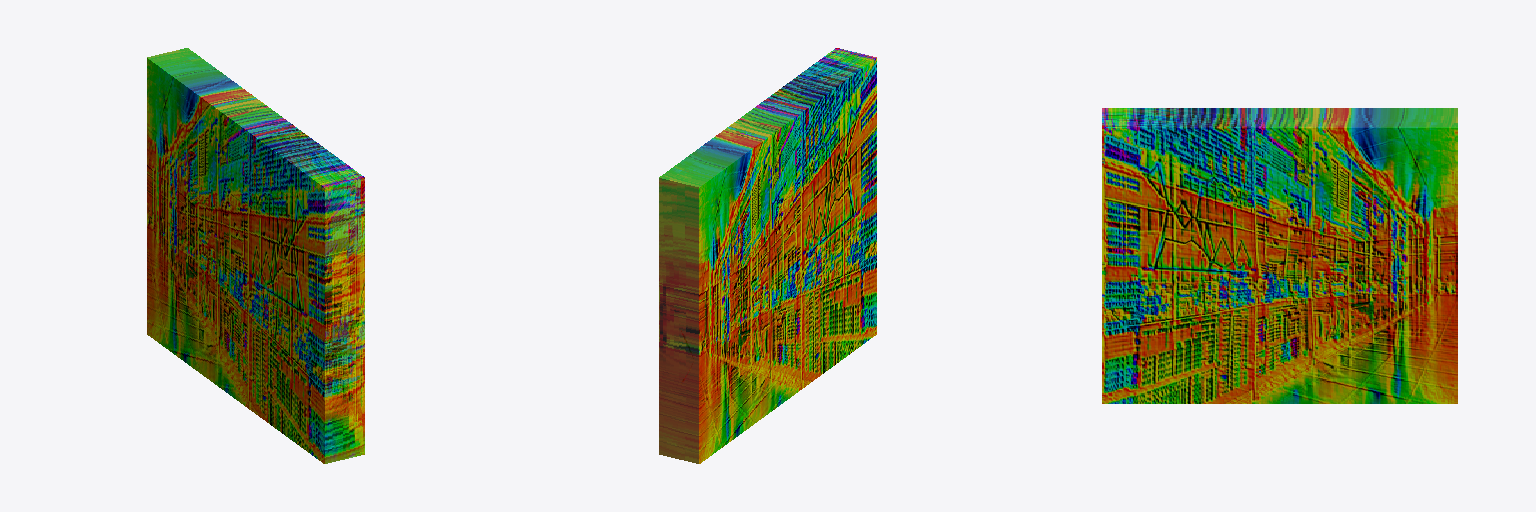
3 renders of one model, left to right at view 1: azimuth 30°, elevation 25°; view 2: azimuth 150°, elevation 25°; view 3: azimuth 270°, elevation 25°, orthographic.
Parts seen in each view (by area): view 1: obj1; view 2: obj1; view 3: obj1.
Part boxes in pixels (bbox=[...]): obj1: bbox=[147, 48, 364, 463]; obj1: bbox=[659, 48, 876, 463]; obj1: bbox=[1102, 108, 1457, 403].
Size of the model in its own units: 0.0801 by 0.5194 by 0.605.
Materials: 1 (1 with a texture image).